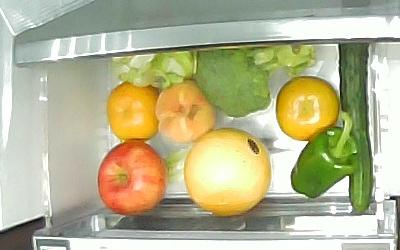apple: (97, 140, 166, 216)
broccoli: (194, 41, 319, 118)
cucumber: (337, 42, 373, 216)
grapefruit: (185, 127, 271, 218)
lettuce: (108, 48, 197, 88)
paprika: (289, 111, 361, 200)
peach: (155, 80, 216, 143)
persimmon: (275, 76, 340, 141), (106, 81, 160, 141)
